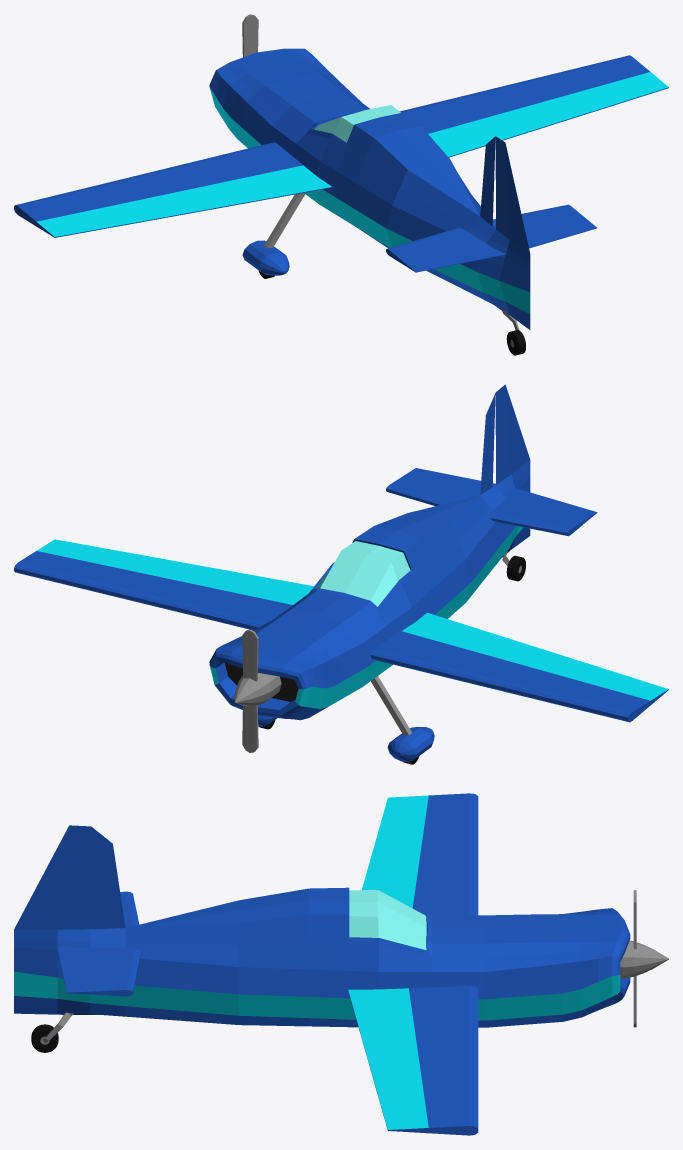
3 views of the same model, one above another, from view 1: azimuth 30°, elevation 25°; view 2: azimuth 150°, elevation 25°; view 3: azimuth 270°, elevation 25° (orthographic). The views are drawn at different scales.
Parts seen in each view (by area): view 1: Cylinder, Cube.001; view 2: Cylinder, Cube.001; view 3: Cylinder, Cylinder.003.
Boxes of the visible parts, bbox=[...] form: Cylinder: bbox=[14, 48, 668, 329]; Cube.001: bbox=[242, 14, 258, 57]; Cylinder: bbox=[14, 384, 668, 761]; Cube.001: bbox=[242, 629, 258, 752]; Cylinder: bbox=[14, 793, 668, 1135]; Cylinder.003: bbox=[31, 1024, 58, 1052].
Size of the model in its own units: 1042 by 388 by 867.
